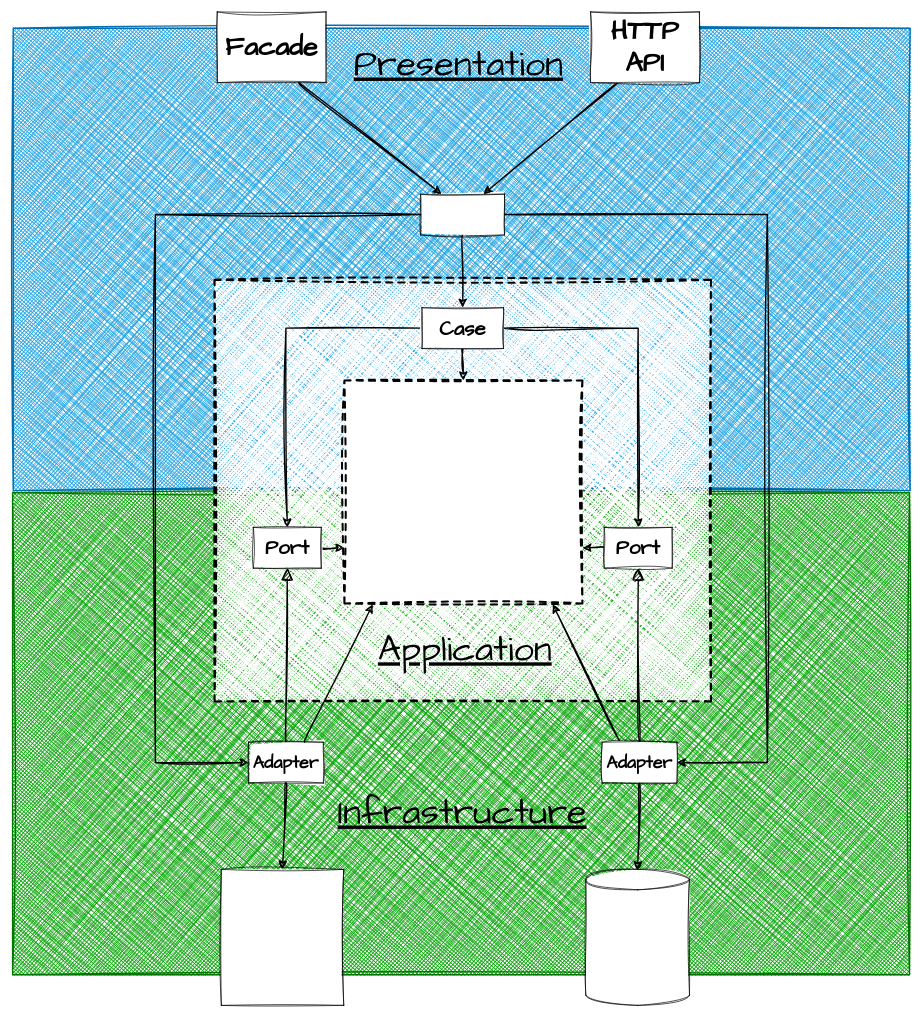
This 922x1017 diagram has some shape labels left out. Each missing label, with the centre of its shape:
"DB" belongs at (637,937).
"Domain" belongs at (463,491).
"facade of another module" belongs at (282,937).
"service" belongs at (462,214).
